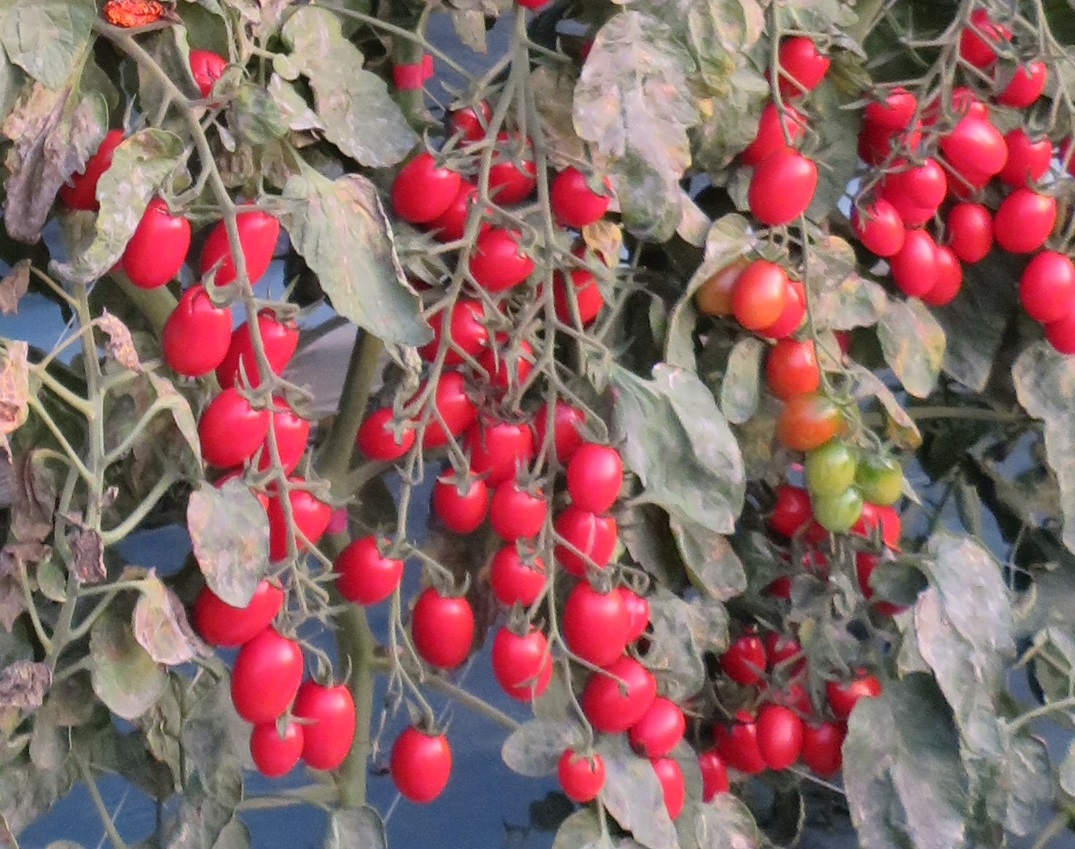green: (807, 475, 866, 533), (861, 446, 908, 505), (810, 437, 860, 492)
orange: (777, 398, 845, 458)
red: (412, 579, 477, 683), (226, 635, 295, 731), (121, 203, 194, 293), (739, 148, 816, 232), (201, 210, 280, 290), (160, 286, 225, 379), (202, 576, 283, 648), (561, 579, 627, 665), (552, 506, 625, 582), (302, 675, 357, 772), (1011, 244, 1075, 326), (196, 392, 263, 468), (495, 615, 549, 706), (568, 438, 628, 519), (582, 661, 651, 730), (462, 415, 535, 479), (393, 726, 451, 806), (485, 545, 551, 615), (989, 184, 1056, 252), (730, 258, 787, 337), (553, 158, 619, 226), (391, 152, 455, 221), (332, 544, 403, 604), (626, 697, 692, 758), (421, 377, 480, 443), (951, 116, 1011, 180), (491, 476, 550, 540), (763, 339, 822, 402), (471, 231, 538, 286), (436, 465, 489, 534), (851, 195, 909, 258), (355, 405, 417, 461), (759, 704, 804, 779), (554, 746, 605, 812), (797, 709, 844, 779), (247, 720, 301, 778), (887, 232, 934, 297), (783, 40, 831, 103), (949, 201, 988, 272), (864, 84, 919, 132), (1007, 136, 1054, 179), (929, 246, 961, 308), (903, 159, 946, 204), (660, 753, 690, 814)
